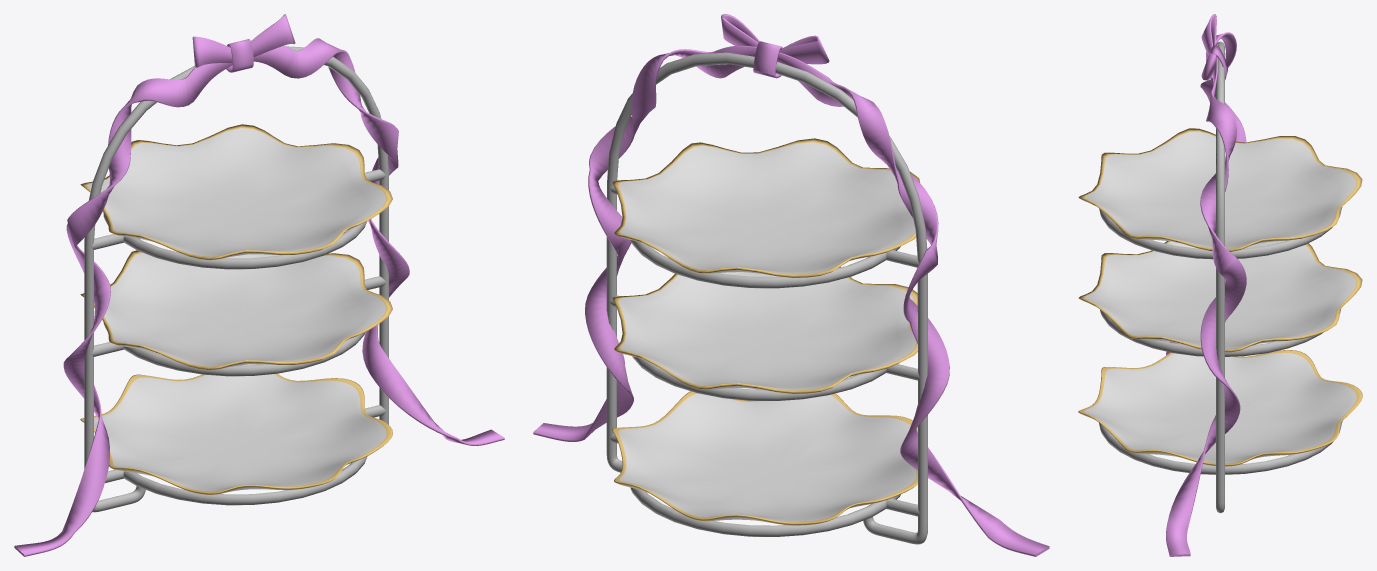
File: Fruit_tray.fbx
3 renders of one model, left to right at view 1: azimuth 30°, elevation 25°; view 2: azimuth 150°, elevation 25°; view 3: azimuth 270°, elevation 25°, orthographic. The views are drawn at different scales.
Visible parts, largest first — view 1: AfternoonDish.003, AfternoonDish.001, AfternoonDish.002, Ribbon, AfternoonTeaStand; view 2: AfternoonDish.003, AfternoonDish.001, AfternoonDish.002, Ribbon, AfternoonTeaStand; view 3: AfternoonDish.003, AfternoonDish.001, AfternoonDish.002, AfternoonTeaStand, Ribbon.
Boxes of the visible parts, x1,y1,x2,y2 form: AfternoonDish.003: (80,124,392,260); AfternoonDish.001: (80,364,392,494); AfternoonDish.002: (80,250,392,370); Ribbon: (14,14,504,556); AfternoonTeaStand: (84,46,388,512); AfternoonDish.003: (612,138,919,277); AfternoonDish.001: (612,391,917,525); AfternoonDish.002: (612,266,917,393); Ribbon: (533,14,1049,556); AfternoonTeaStand: (606,52,927,544); AfternoonDish.003: (1078,128,1362,251); AfternoonDish.001: (1078,350,1362,466); AfternoonDish.002: (1078,240,1362,352); AfternoonTeaStand: (1099,41,1342,513); Ribbon: (1166,14,1246,556).
Size of the model in its own units: 111 by 101 by 62.23.
